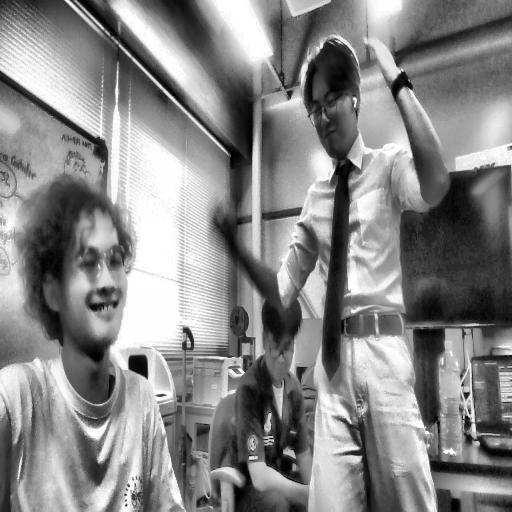Daifuku: (20, 170, 132, 349)
Not Daifuku: (300, 24, 365, 154), (263, 288, 300, 384)
